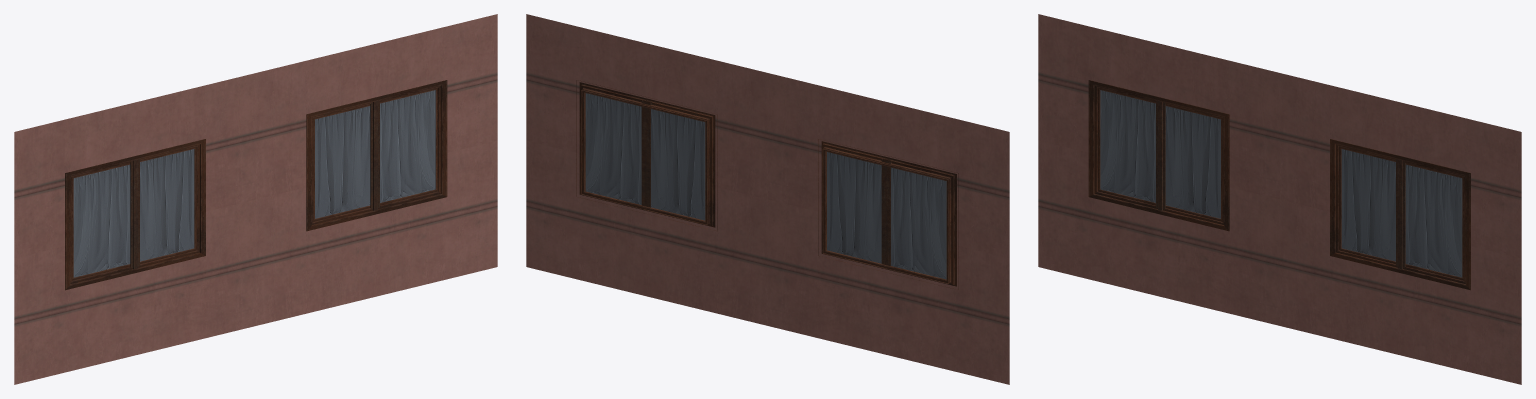
File: House_04_Windows_02.fbx
The picture shows the model from 3 angles, left to right: view 1: azimuth 30°, elevation 25°; view 2: azimuth 150°, elevation 25°; view 3: azimuth 330°, elevation 25°; orthographic projection.
Parts seen in each view (by area): view 1: House_04_Windows_02_LOD0; view 2: House_04_Windows_02_LOD0; view 3: House_04_Windows_02_LOD0.
Part boxes in pixels (left/top/right/bottom): House_04_Windows_02_LOD0: left=14, top=14, right=497, bottom=384; House_04_Windows_02_LOD0: left=526, top=14, right=1009, bottom=384; House_04_Windows_02_LOD0: left=1038, top=14, right=1521, bottom=384.
Size of what is drawn, in the model's own units: 400 by 200 by 4.97.
